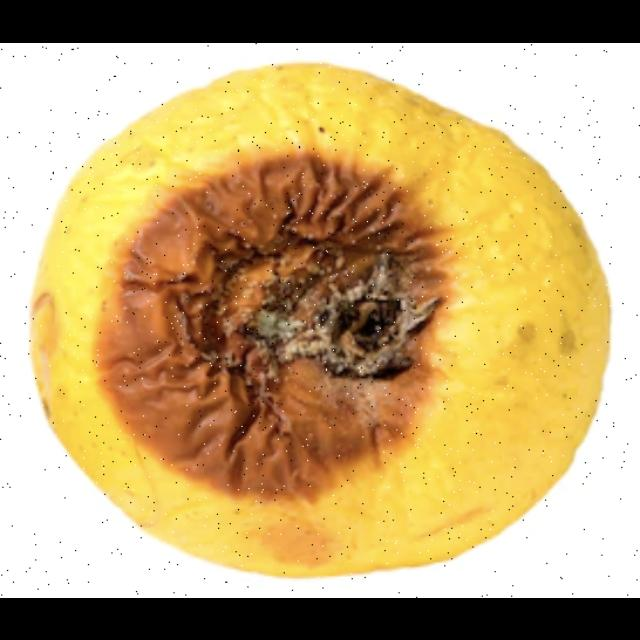Apel Tidak Segar: (24, 60, 624, 584)
